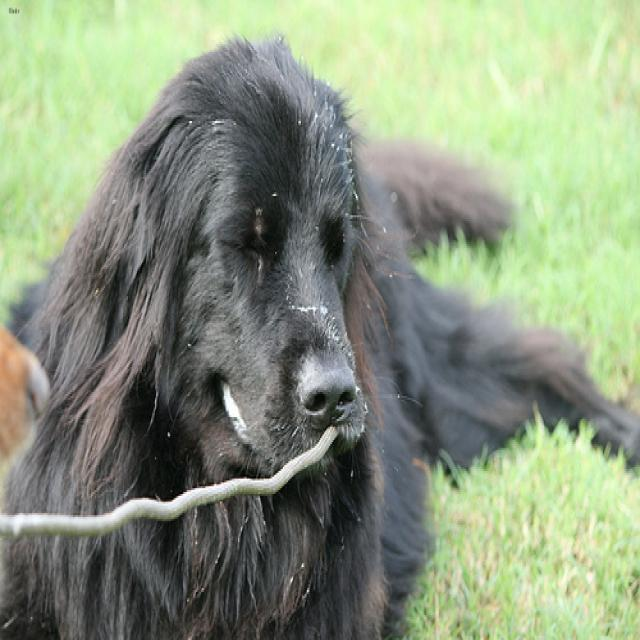dog-newfoundland: (1, 23, 637, 636)
